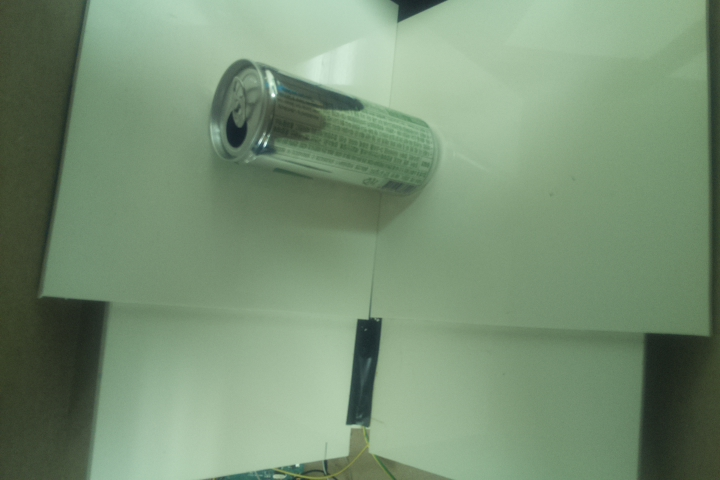can: (207, 57, 441, 201)
